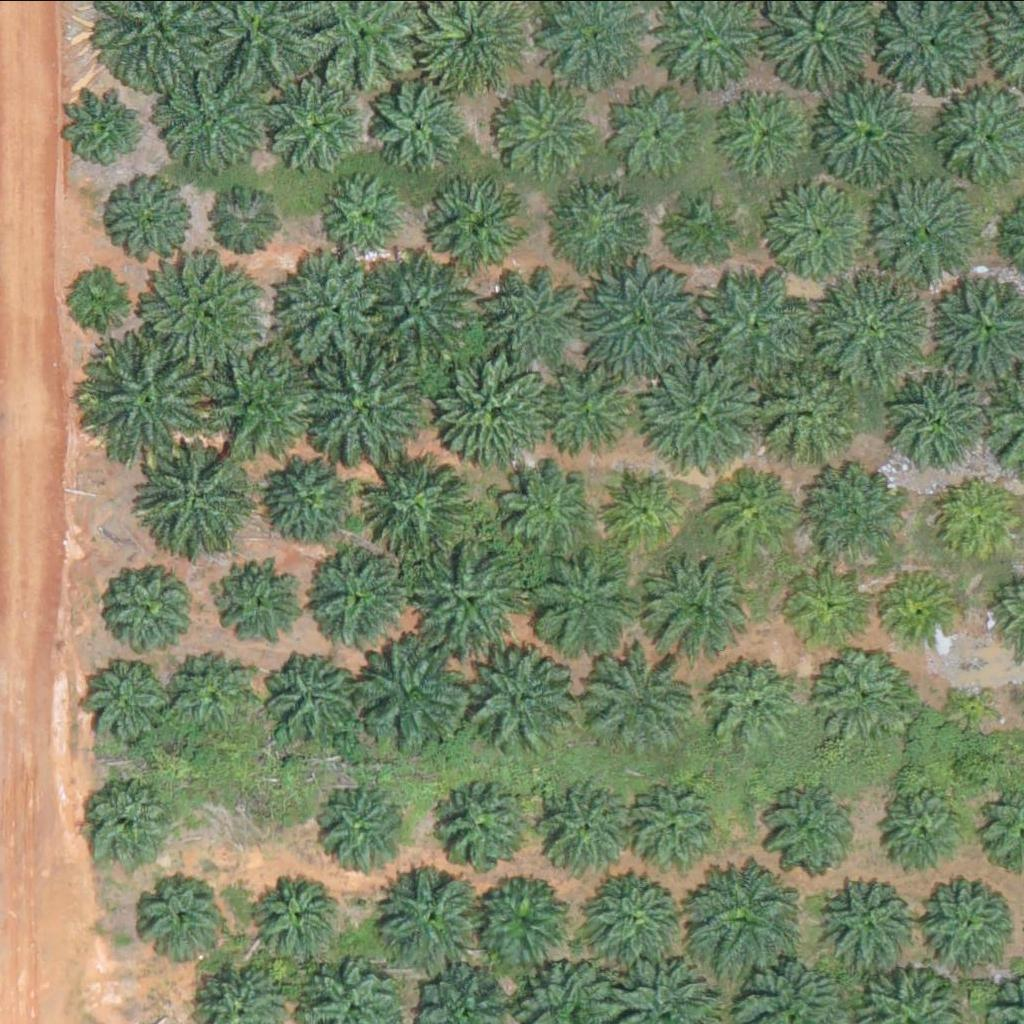Kelapa_Sawit: (92, 335, 218, 460), (812, 76, 926, 189), (147, 247, 261, 360), (360, 451, 474, 564), (152, 58, 265, 171), (767, 171, 880, 284), (816, 269, 929, 382), (582, 265, 695, 378), (210, 344, 323, 457), (311, 353, 424, 466), (431, 356, 544, 469), (491, 458, 604, 571), (685, 859, 798, 972), (649, 349, 763, 461), (525, 547, 639, 659), (641, 550, 755, 662), (357, 641, 471, 753), (873, 175, 987, 287), (700, 267, 813, 379), (362, 248, 475, 360), (275, 253, 388, 365), (416, 542, 529, 654), (373, 866, 486, 978), (469, 262, 570, 362), (253, 442, 354, 542), (97, 558, 198, 658), (589, 658, 690, 758), (317, 782, 418, 882), (538, 777, 639, 877), (627, 776, 728, 876), (579, 867, 680, 967), (471, 875, 572, 975), (431, 173, 531, 273), (752, 358, 852, 458), (151, 447, 251, 547), (307, 545, 407, 645), (809, 649, 909, 749), (476, 654, 576, 754), (260, 649, 360, 749), (432, 773, 532, 873), (109, 175, 198, 263), (812, 471, 901, 559), (599, 464, 687, 552), (721, 88, 809, 176), (267, 84, 355, 172), (321, 174, 409, 262), (545, 375, 633, 463), (711, 472, 799, 560), (213, 563, 301, 651), (707, 661, 795, 749), (82, 781, 170, 869), (821, 877, 909, 965), (253, 878, 341, 966), (872, 561, 960, 649), (873, 781, 962, 868), (63, 84, 151, 171), (497, 82, 585, 169), (371, 83, 459, 170), (552, 181, 640, 268), (787, 560, 875, 647), (168, 644, 256, 731), (85, 656, 173, 743), (766, 785, 854, 872), (142, 869, 230, 956), (929, 875, 1017, 962), (894, 375, 982, 462), (214, 186, 290, 261), (623, 91, 699, 166), (941, 477, 1017, 552), (66, 264, 129, 327), (671, 196, 734, 259), (954, 688, 1004, 738)
